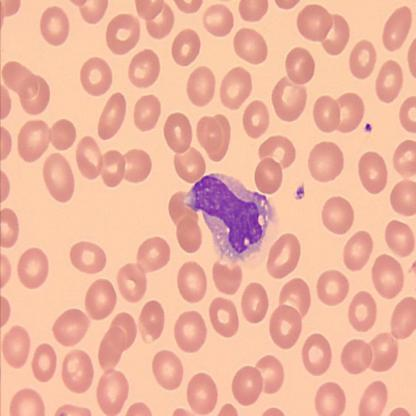Monocyte: (181, 171, 278, 265)
